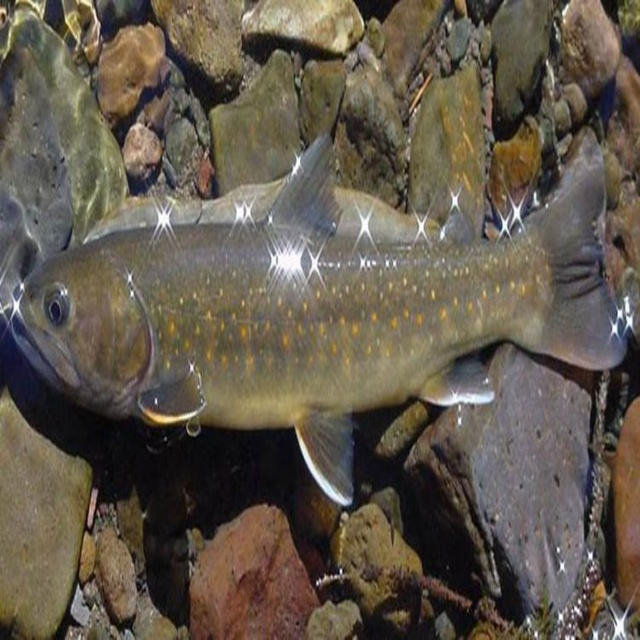Fish: (9, 126, 628, 510)
